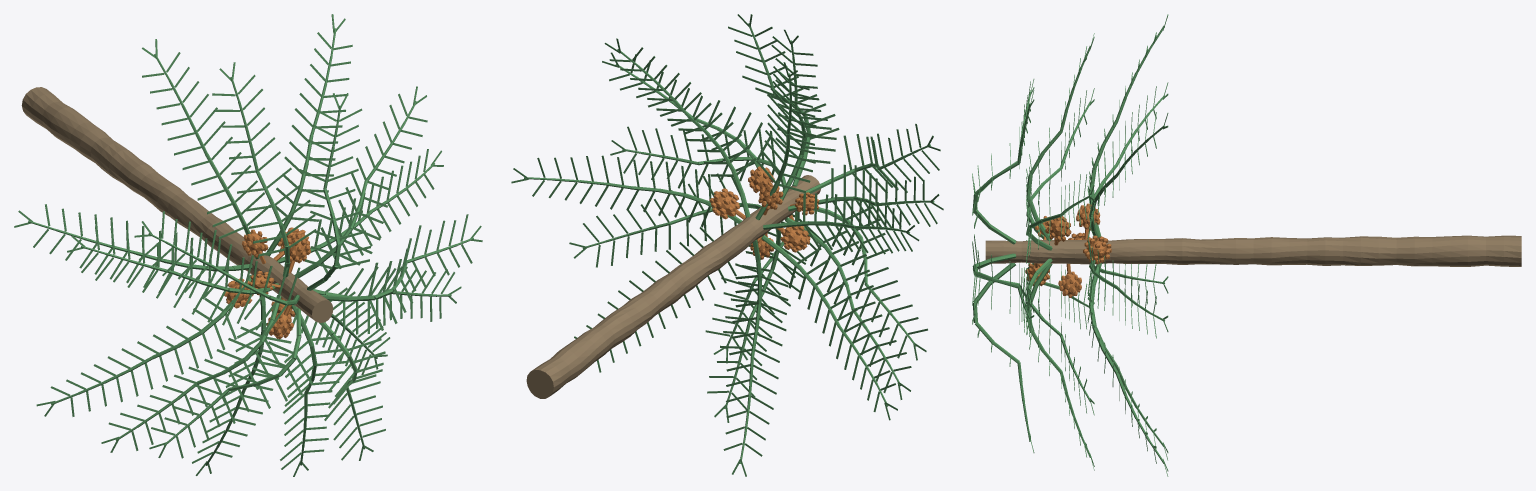
The model's file is oil_palm_tree_lowpoly.glb.
The picture shows the model from 3 angles, left to right: view 1: azimuth 30°, elevation 25°; view 2: azimuth 150°, elevation 25°; view 3: azimuth 270°, elevation 25°; orthographic projection. The views are drawn at different scales.
Visible parts, largest first — view 1: trunk, branch_03, branch_09, branch_05, branch_02, branch_15, branch_17, branch_10, branch_11, branch_16, branch_04, branch_08 (+10 smaller); view 2: trunk, branch_06, branch_01, branch_05, branch_02, branch_04, branch_03, branch_11, branch_10, branch_09, branch_16, branch_12 (+11 smaller); view 3: trunk, branch_14, branch_01, branch_02, branch_07, branch_08, branch_15, branch_13, branch_09, branch_12, branch_18, branch_03 (+5 smaller).
Boxes of the visible parts, box(x1,y1,x2,y2) form: trunk: box(21, 87, 333, 322); branch_03: box(142, 39, 270, 259); branch_09: box(212, 62, 316, 277); branch_05: box(36, 274, 251, 416); branch_02: box(266, 14, 352, 256); branch_15: box(299, 93, 370, 290); branch_17: box(149, 308, 312, 458); branch_10: box(67, 226, 278, 325); branch_11: box(101, 295, 281, 452); branch_16: box(134, 211, 300, 335); branch_04: box(14, 204, 252, 299); branch_08: box(294, 86, 427, 278); trunk: box(526, 175, 820, 398); branch_06: box(723, 239, 788, 476); branch_01: box(511, 155, 742, 227); branch_05: box(761, 235, 897, 420); branch_02: box(604, 38, 756, 217); branch_04: box(763, 193, 919, 254); branch_03: box(755, 62, 816, 220); branch_11: box(785, 217, 911, 399); branch_10: box(788, 164, 943, 229); branch_09: box(771, 29, 836, 200); branch_16: box(804, 123, 940, 199); branch_12: box(707, 229, 805, 422); trunk: box(985, 235, 1521, 266); branch_14: box(972, 234, 1034, 341); branch_01: box(1087, 238, 1168, 338); branch_02: box(1087, 112, 1168, 240); branch_07: box(1087, 263, 1168, 476); branch_08: box(1026, 174, 1094, 263); branch_15: box(972, 90, 1034, 244); branch_13: box(1026, 258, 1094, 415); branch_09: box(1026, 33, 1094, 240); branch_12: box(1026, 263, 1094, 470); branch_18: box(972, 263, 1034, 452); branch_03: box(1087, 14, 1168, 236).
Size of the model in its own units: 10.42 by 10.38 by 12.3.
